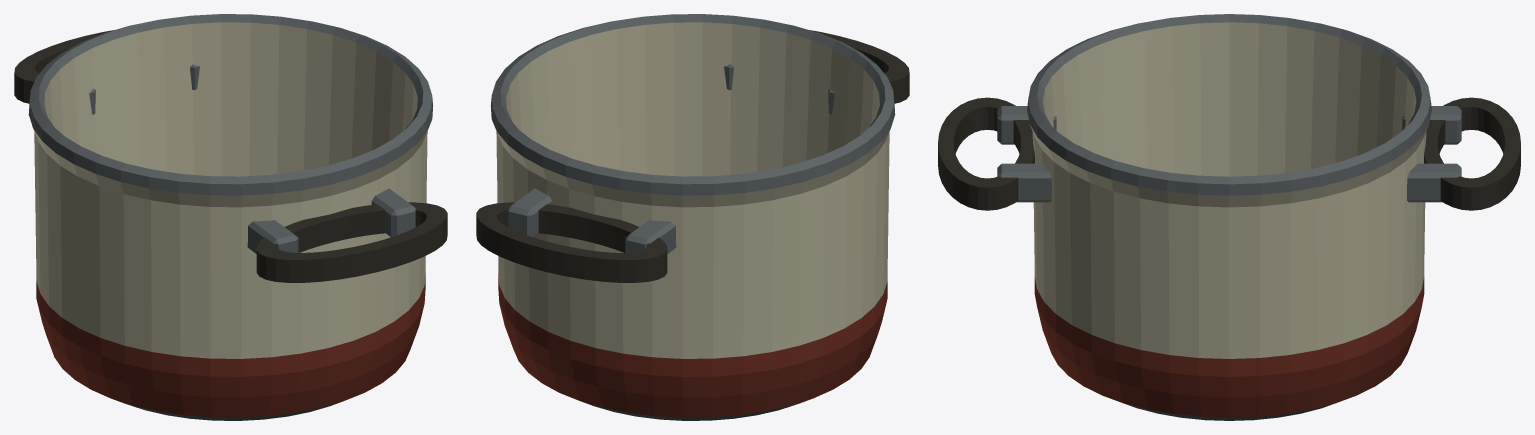
The model's file is SM_Pot_A.fbx.
The picture shows the model from 3 angles, left to right: view 1: azimuth 30°, elevation 25°; view 2: azimuth 150°, elevation 25°; view 3: azimuth 270°, elevation 25°; orthographic projection.
Parts seen in each view (by area): view 1: SM_Pot_A; view 2: SM_Pot_A; view 3: SM_Pot_A.
Boxes of the visible parts, box(x1,y1,x2,y2) form: SM_Pot_A: box(14, 14, 447, 420); SM_Pot_A: box(476, 14, 909, 420); SM_Pot_A: box(938, 14, 1520, 420).
Size of the model in its own units: 53 by 36.8 by 26.
